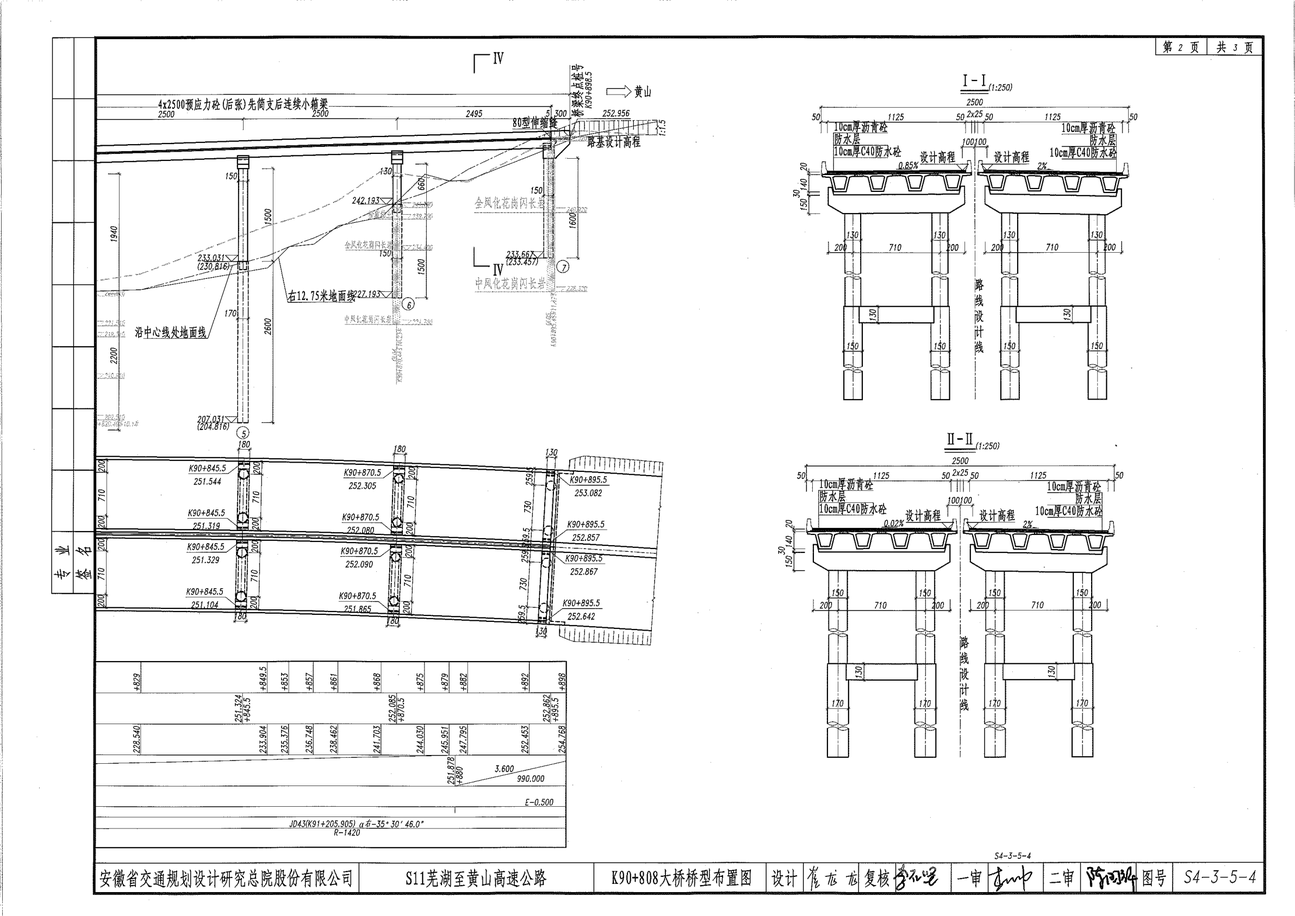A: (92, 51, 670, 376)
